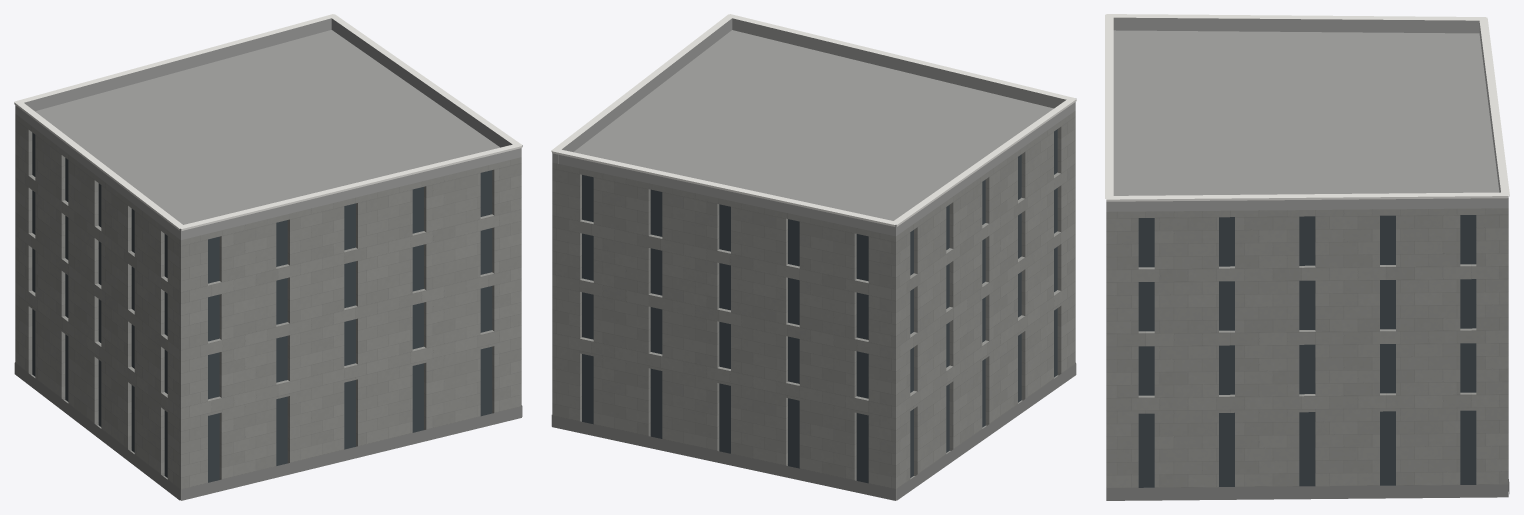
3 renders of one model, left to right at view 1: azimuth 30°, elevation 25°; view 2: azimuth 150°, elevation 25°; view 3: azimuth 270°, elevation 25°, orthographic. The views are drawn at different scales.
Parts seen in each view (by area): view 1: dormLinkEF__wall, dormLinkEF__roof, dormLinkEF__glass, dormLinkEF__parapet, dormLinkEF__trim, dormLinkEF__base; view 2: dormLinkEF__wall, dormLinkEF__roof, dormLinkEF__glass, dormLinkEF__parapet, dormLinkEF__trim, dormLinkEF__base; view 3: dormLinkEF__wall, dormLinkEF__roof, dormLinkEF__glass, dormLinkEF__parapet, dormLinkEF__trim, dormLinkEF__base.
Boxes of the visible parts, box(x1,y1,x2,y2) form: dormLinkEF__wall: box(15, 114, 521, 500); dormLinkEF__roof: box(35, 30, 499, 224); dormLinkEF__glass: box(32, 132, 492, 482); dormLinkEF__parapet: box(15, 18, 521, 239); dormLinkEF__trim: box(14, 14, 522, 230); dormLinkEF__base: box(14, 362, 522, 500); dormLinkEF__wall: box(552, 111, 1075, 500); dormLinkEF__roof: box(573, 30, 1053, 220); dormLinkEF__glass: box(582, 129, 1057, 483); dormLinkEF__parapet: box(552, 18, 1075, 236); dormLinkEF__trim: box(551, 14, 1076, 226); dormLinkEF__base: box(551, 363, 1076, 500); dormLinkEF__wall: box(1106, 208, 1508, 487); dormLinkEF__roof: box(1113, 30, 1499, 195); dormLinkEF__glass: box(1138, 215, 1476, 487); dormLinkEF__parapet: box(1106, 17, 1508, 211); dormLinkEF__trim: box(1105, 14, 1509, 201); dormLinkEF__base: box(1106, 479, 1509, 500).
Bounding box in the file's own units: 18.61 × 14.1 × 17.16.
6 materials, 1 textured.
